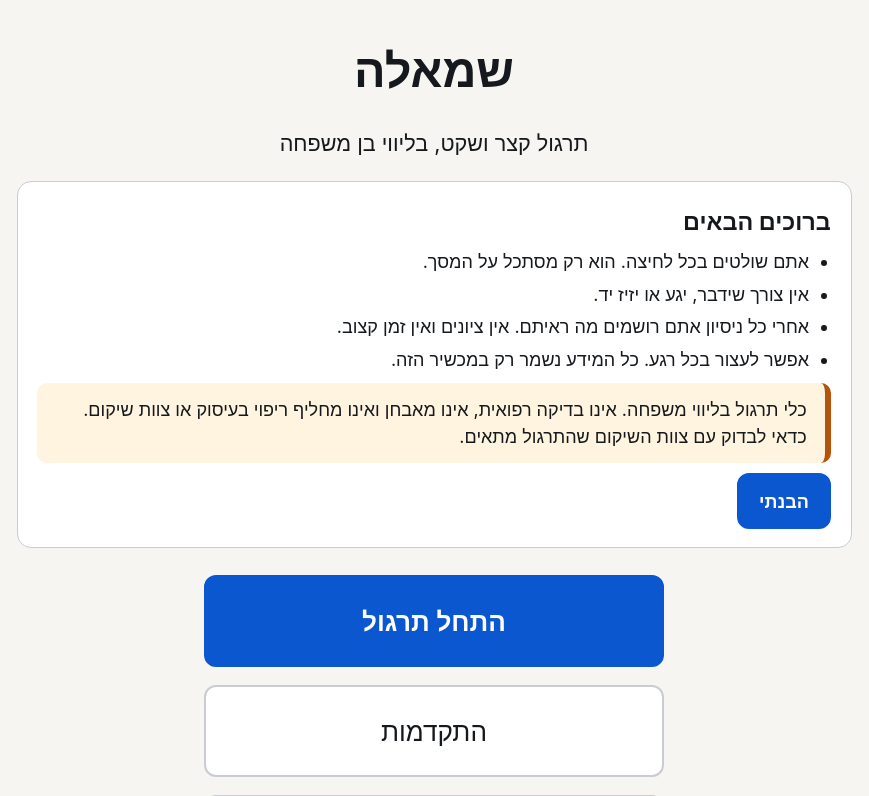
Test: literature-informed exercises in the UI › every exercise in the chooser has an "על התרגול" explanation
Click the button with test id "home-start": x=434, y=621 [204, 575, 664, 667]
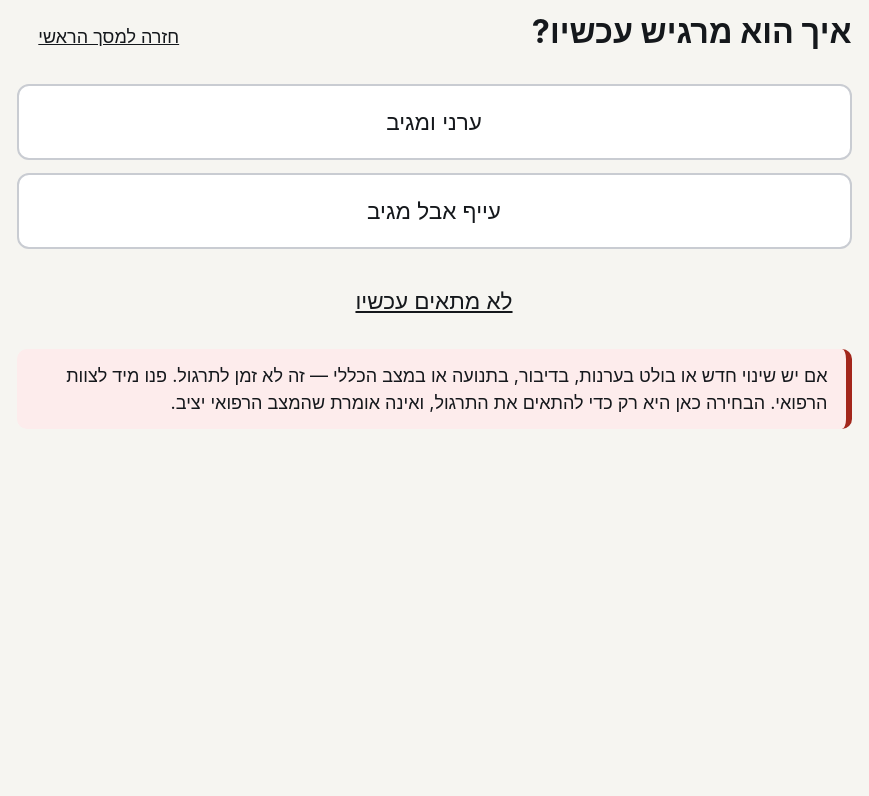
Click the button with test id "readiness-alert": x=434, y=122 [16, 84, 852, 160]
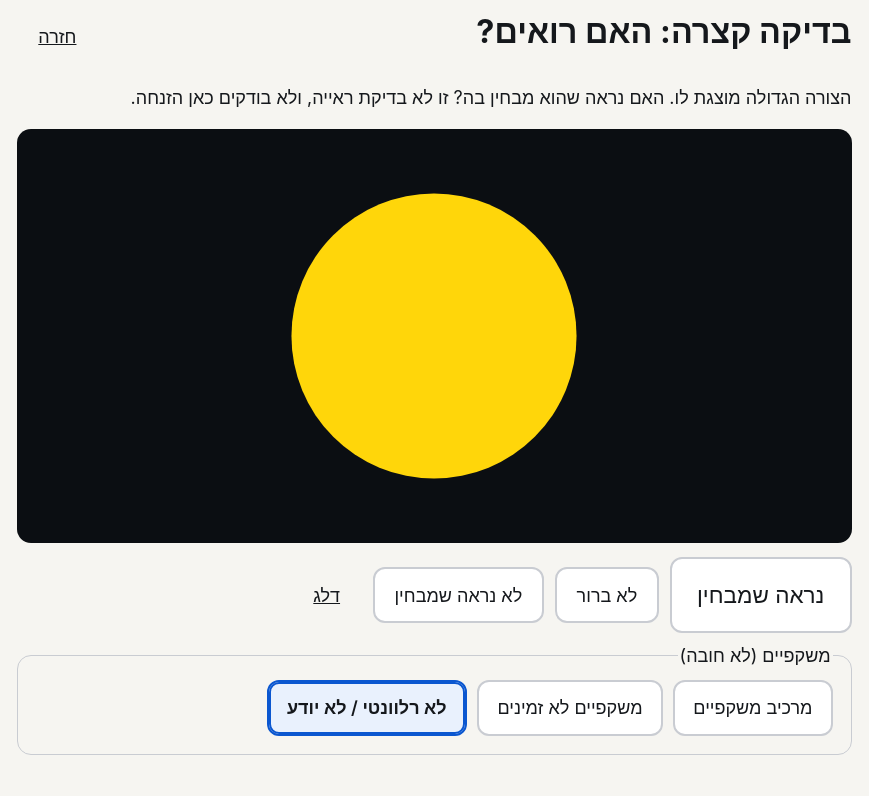
Click the button with test id "vision-noticed": x=761, y=595 [670, 557, 852, 633]
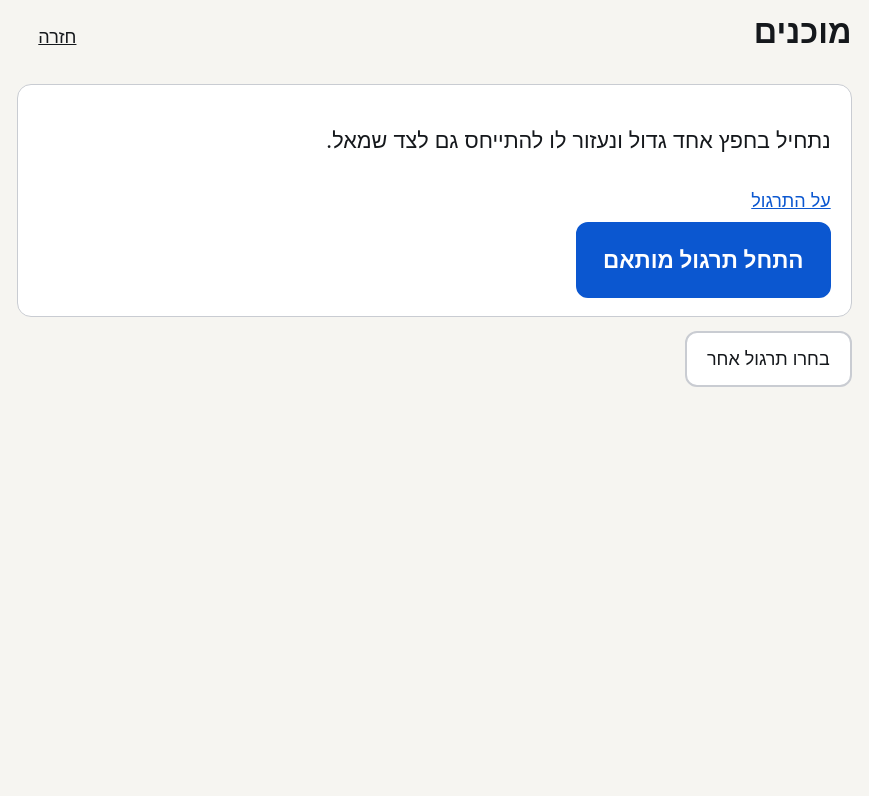
Click the button with test id "start-choose-other": x=768, y=359 [685, 331, 852, 387]
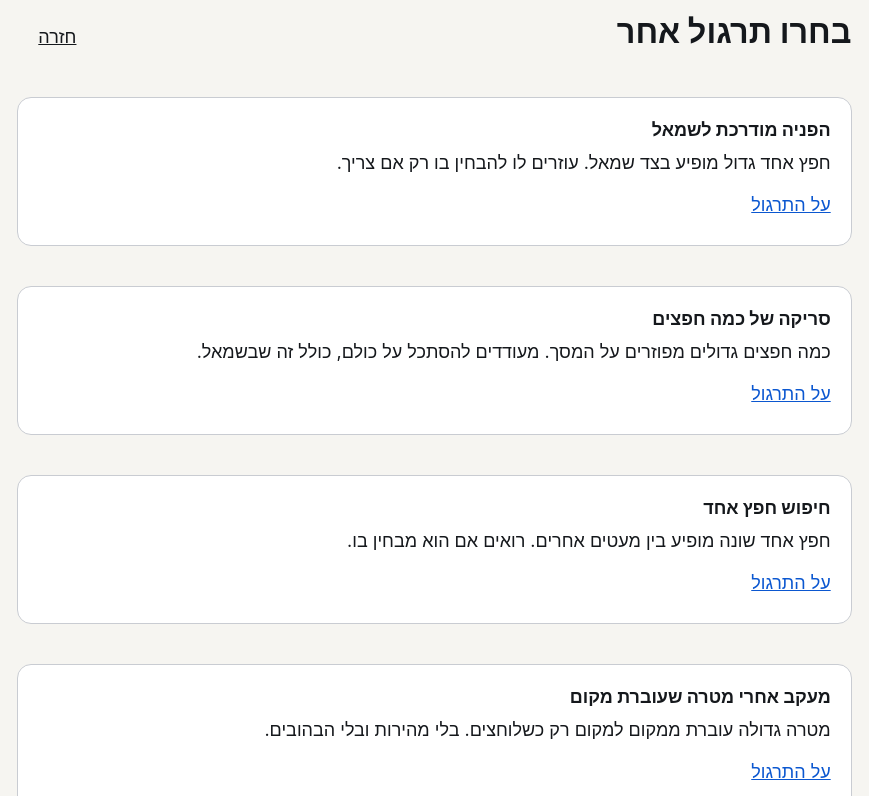
Click the 2nd heading "על התרגול": x=791, y=394 [751, 383, 831, 404]
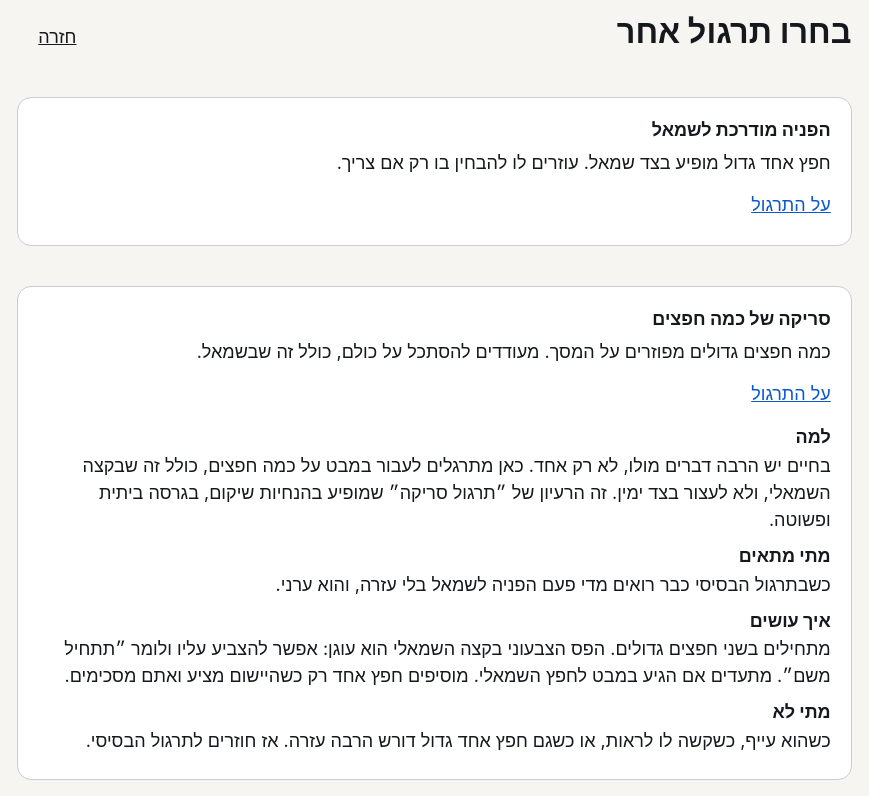
Check: the text "למה" is shown, box [796, 426, 831, 447]
Check: the text "מתי מתאים" is shown, box [739, 545, 831, 566]
Check: the text "איך עושים" is shown, box [750, 610, 831, 630]
